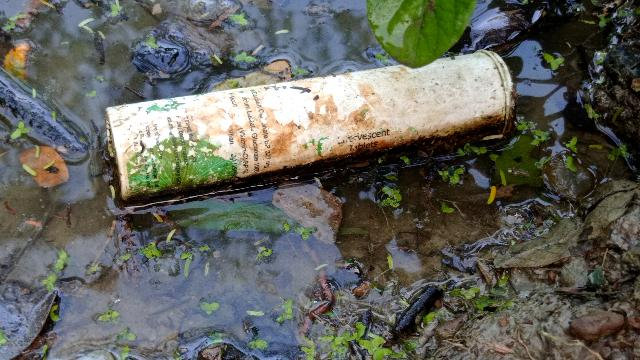hardplastic: (104, 24, 510, 199)
